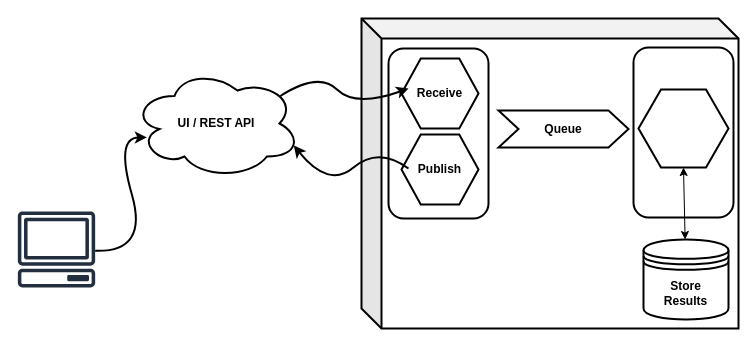
Some shapes in this 756 by 346 pixel diagram are drawn without their labels. The shapes that lost their labels are listed below. From the top down, each one's centre as x and y in pixels, then its label:
At pixel 683 128: "Identify".
At pixel 56 249: "Client".
